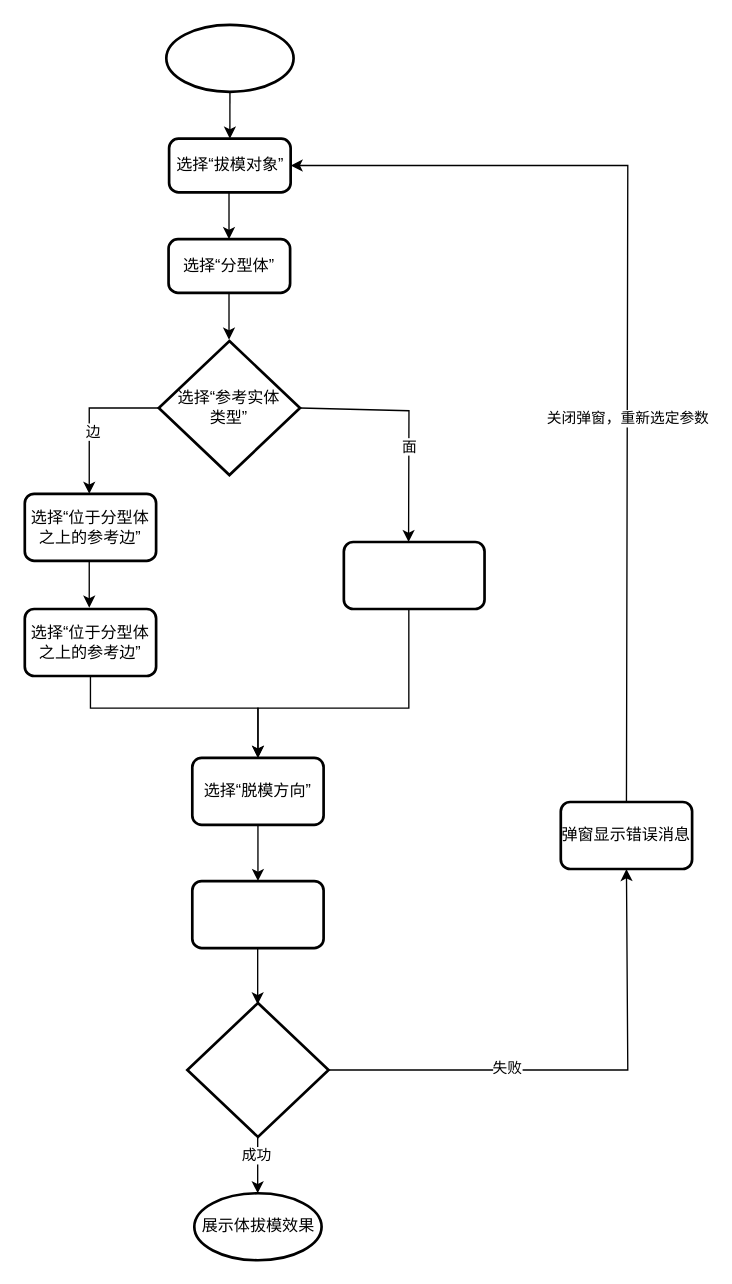
This 732x1284 diagram has some shape labels left out. Here are the shapes that lost their labels. From the top down, the box of each, then its label:
(164, 23, 294, 92): 点击“体拔模”
(342, 540, 485, 610): 选择“参考面”
(190, 879, 324, 949): 编辑并输入“设置选项”各项内容
(185, 1001, 329, 1138): 拔模结果
